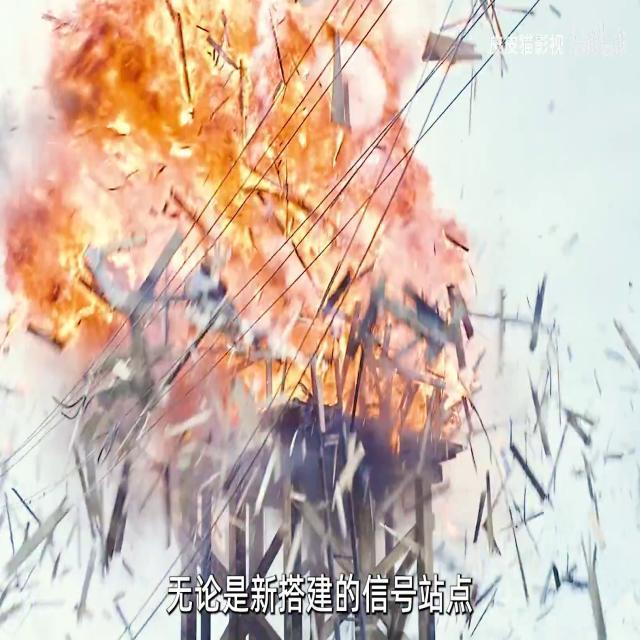fire: (1, 0, 474, 464)
